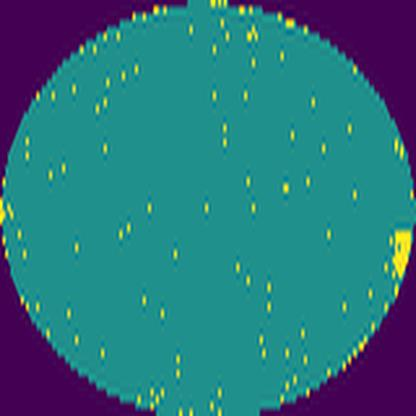Edge-Loc: (391, 225, 416, 282)
